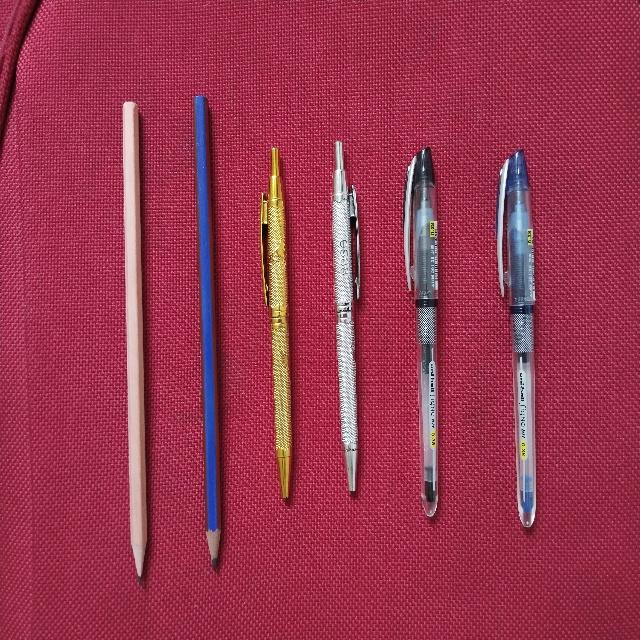pen: (496, 150, 535, 526), (404, 148, 437, 516)
pencil: (193, 96, 220, 569), (123, 102, 146, 583)
signature pen: (260, 148, 290, 498), (332, 141, 359, 491)
